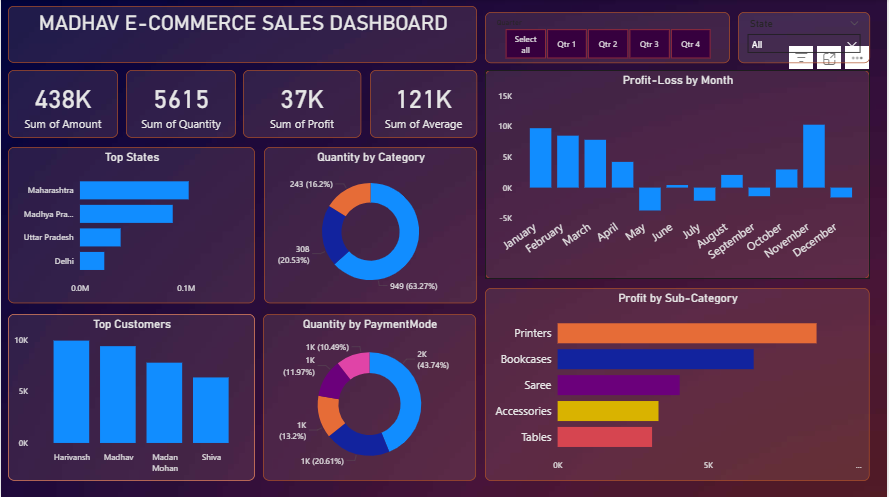

The dashboard page shown, as its layout file describes it:
{"tool":"powerbi","page":{"name":"Page 1","canvas":[1280,720],"ordinal":0},"visuals":[{"type":"textbox","title":"MADHAV E-COMMERCE SALES DASHBOARD","box":[10.1,10,678.1,82.4],"z":0},{"type":"columnChart","title":"Profit-Loss by Month","fields":{"Category":["Orders.Order Date.Variation.Date Hierarchy.Month"],"Y":["Details.Profit"]},"box":[700.5,102.5,556,302.4],"z":1000},{"type":"barChart","title":"Profit by Sub-Category","fields":{"Category":["Details.Sub-Category"],"Y":["Details.Profit"]},"box":[700.5,418.3,556,278.8],"z":2000},{"type":"donutChart","title":"Quantity by Category","fields":{"Category":["Details.Category"],"Y":["Details.Category"]},"box":[380.2,214,308,225.5],"z":3000},{"type":"card","fields":{"Values":["Details.Amount"]},"box":[10.1,102.7,159,98.3],"z":4000},{"type":"card","fields":{"Values":["Details.Quantity"]},"box":[180.7,102.7,159,98.3],"z":5000},{"type":"card","fields":{"Values":["Details.Profit"]},"box":[349.9,102.7,170.6,98.3],"z":6000},{"type":"card","fields":{"Values":["Details.Average"]},"box":[533.5,102.7,154.7,98.3],"z":7000},{"type":"barChart","title":"Top States","fields":{"Category":["Orders.State"],"Y":["Details.Amount"]},"box":[10.1,214,357.1,225.5],"z":8000},{"type":"columnChart","title":"Top Customers","fields":{"Category":["Orders.CustomerName"],"Y":["Details.Amount"]},"box":[10.1,455.4,357.1,241.4],"z":9000},{"type":"donutChart","title":"Quantity by PaymentMode","fields":{"Y":["Details.Quantity"],"Category":["Details.PaymentMode"]},"box":[378.8,455.4,308,241.4],"z":10000},{"type":"slicer","fields":{"Values":["Orders.Order Date.Variation.Date Hierarchy.Quarter"]},"box":[699.8,18.8,354.2,73.7],"z":11000},{"type":"slicer","fields":{"Values":["Orders.State"]},"box":[1065,18.5,191.5,73.9],"z":12000}]}

Visuals, with their boxes in screenshot pixels (x1, y1, x2, y2), scaled from the page's 1280x720 canvas onto the 889x497 screenshot:
"MADHAV E-COMMERCE SALES DASHBOARD" textbox: 7, 7, 478, 64
"Profit-Loss by Month" columnChart: 487, 71, 873, 279
"Profit by Sub-Category" barChart: 487, 289, 873, 481
"Quantity by Category" donutChart: 264, 148, 478, 303
card - Details.Amount: 7, 71, 117, 139
card - Details.Quantity: 126, 71, 236, 139
card - Details.Profit: 243, 71, 362, 139
card - Details.Average: 371, 71, 478, 139
"Top States" barChart: 7, 148, 255, 303
"Top Customers" columnChart: 7, 314, 255, 481
"Quantity by PaymentMode" donutChart: 263, 314, 477, 481
slicer - Orders.Order Date.Variation.Date Hierarchy.Quarter: 486, 13, 732, 64
slicer - Orders.State: 740, 13, 873, 64
